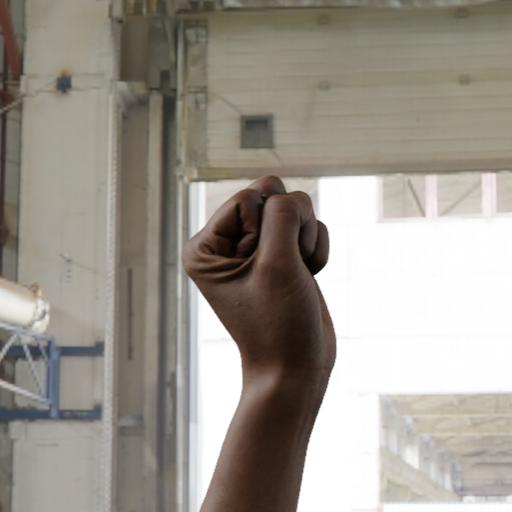S: (169, 145, 365, 400)
